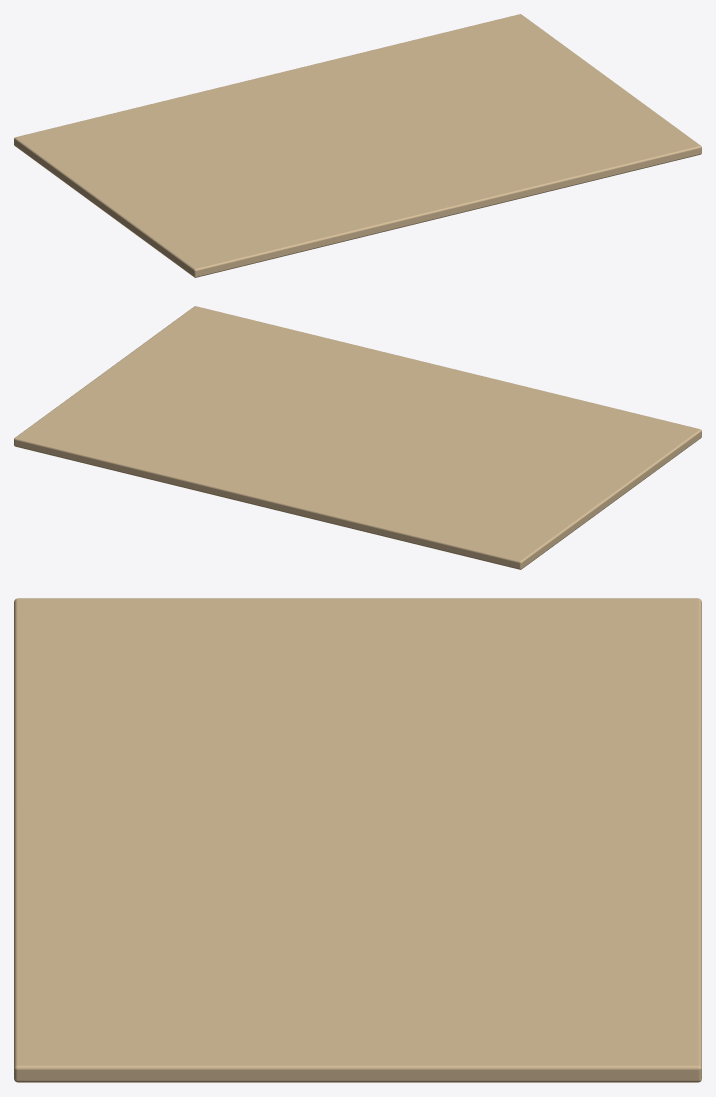
Rendered from tabletop-hobby-store-and-club-removable-table-topper-1c730919__31567.glb.
3 views of the same model, one above another, from view 1: azimuth 30°, elevation 25°; view 2: azimuth 150°, elevation 25°; view 3: azimuth 270°, elevation 25° (orthographic). The views are drawn at different scales.
Parts seen in each view (by area): view 1: removable-table-topper; view 2: removable-table-topper; view 3: removable-table-topper.
Part boxes in pixels (x1,y1,x2,y2): removable-table-topper: (14,14,701,277); removable-table-topper: (14,306,701,569); removable-table-topper: (14,598,701,1082).
Bounding box in the file's own units: 2.1 × 0.05 × 1.3.
